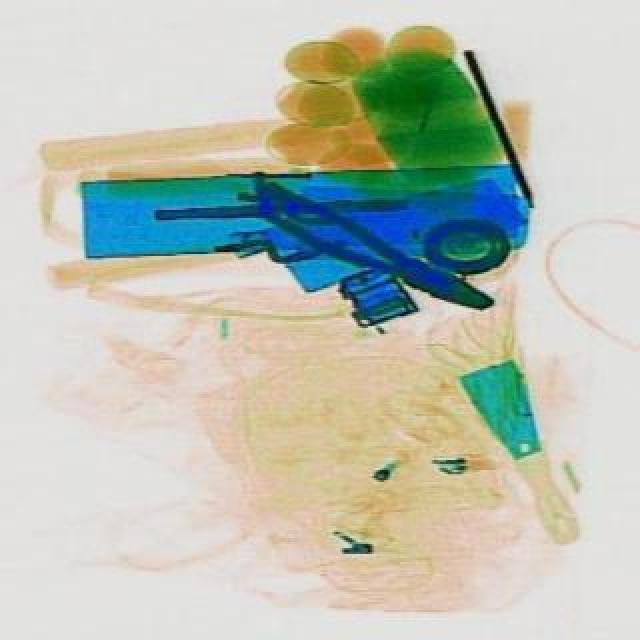wrench: (242, 178, 498, 326)
